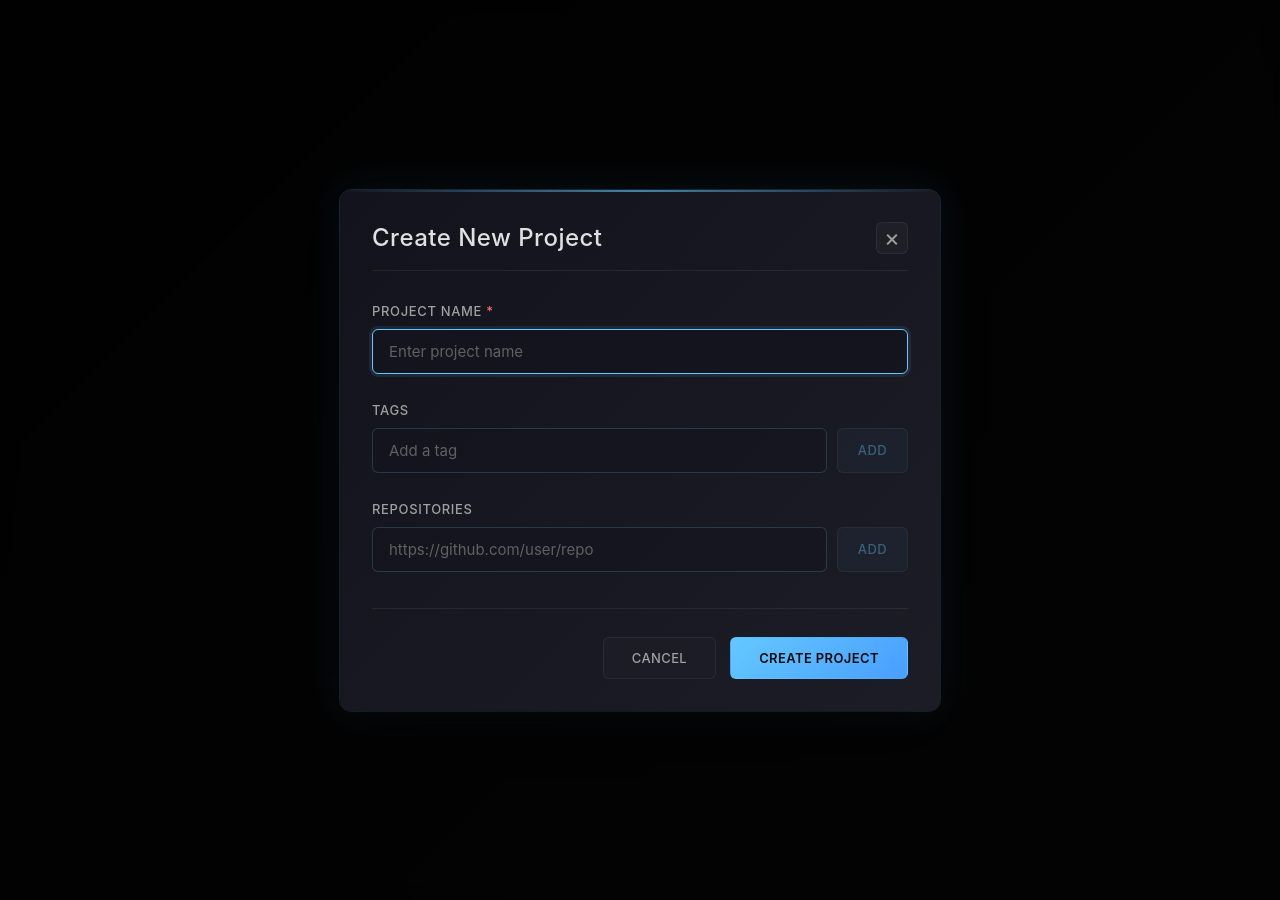
Test: NewProjectModal Component › Form Validation › should show error when submitting without project name
Click the button "Create Project": [819, 658] box [730,636,908,678]
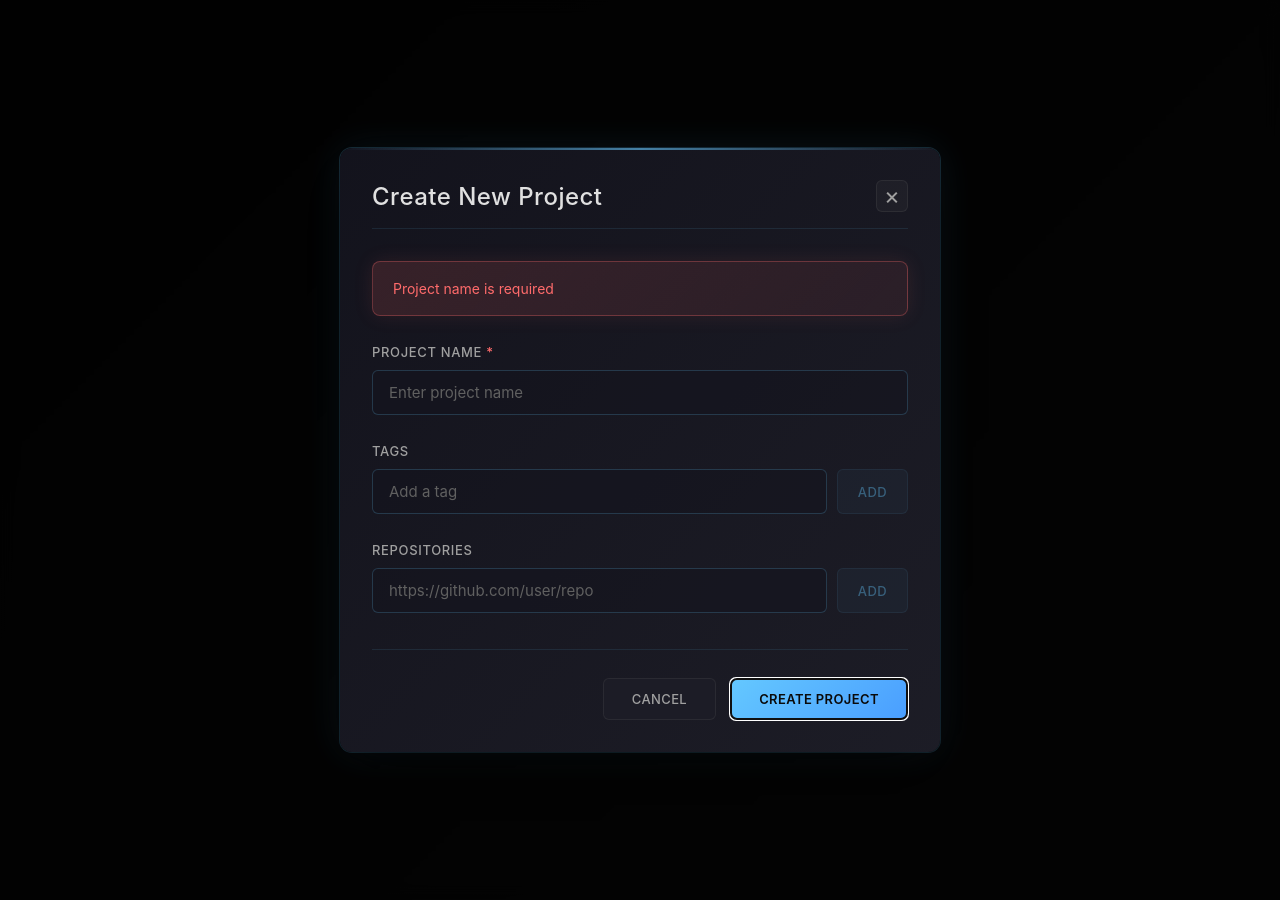
Expected: the text "Project name is required" is shown, [372,261,908,316]
